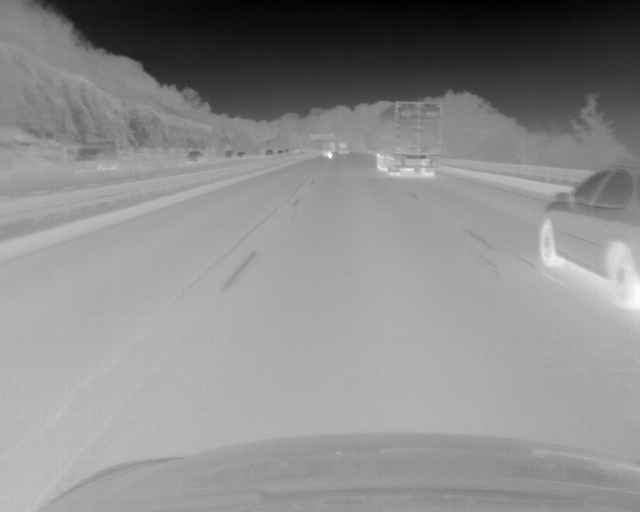car: (537, 165, 640, 313), (374, 100, 443, 177), (70, 140, 118, 170), (186, 151, 203, 162)
